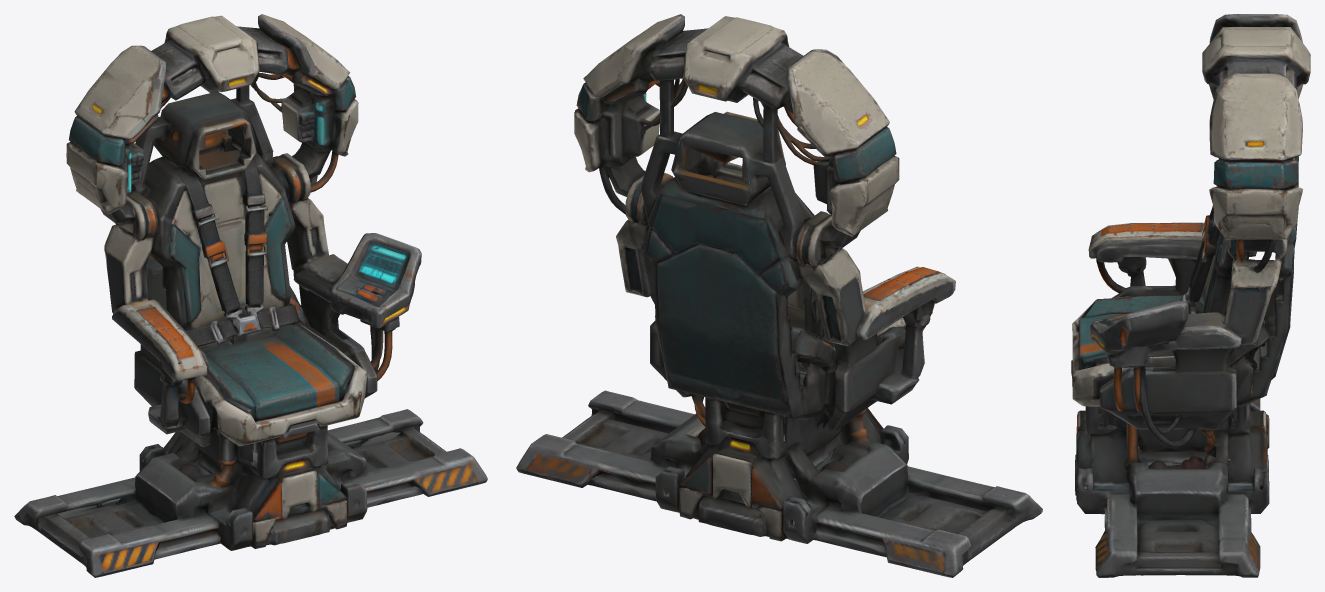
Rendered from chair_throne.glb.
3 views of the same model, side by side, from view 1: azimuth 30°, elevation 25°; view 2: azimuth 150°, elevation 25°; view 3: azimuth 270°, elevation 25° (orthographic). The views are drawn at different scales.
Parts seen in each view (by area): view 1: tripo_node_1aa04191-03a4-4d30-951d-2bd7990a0526; view 2: tripo_node_1aa04191-03a4-4d30-951d-2bd7990a0526; view 3: tripo_node_1aa04191-03a4-4d30-951d-2bd7990a0526.
Part boxes in pixels (x1,y1,x2,y2): tripo_node_1aa04191-03a4-4d30-951d-2bd7990a0526: (14, 14, 487, 577); tripo_node_1aa04191-03a4-4d30-951d-2bd7990a0526: (516, 14, 1042, 577); tripo_node_1aa04191-03a4-4d30-951d-2bd7990a0526: (1071, 14, 1310, 577).
Bounding box in the file's own units: 0.9372 × 0.9999 × 0.4877.
Materials: 1 (1 with a texture image).
